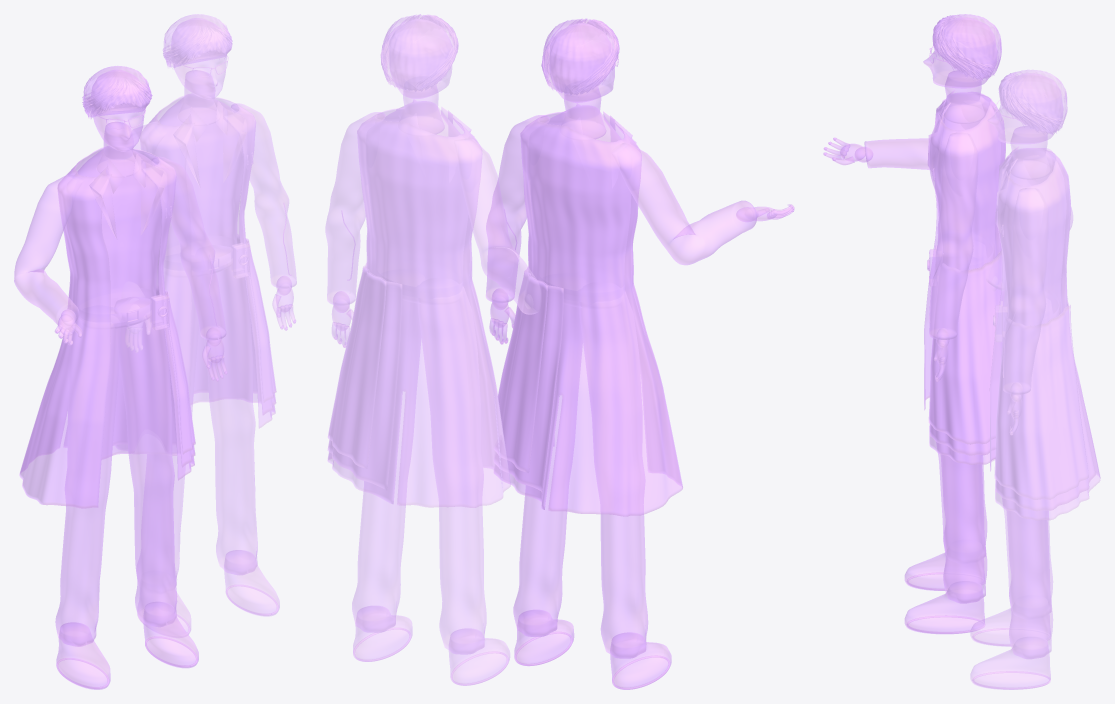
File: replay_afterimages.glb
3 renders of one model, left to right at view 1: azimuth 30°, elevation 25°; view 2: azimuth 150°, elevation 25°; view 3: azimuth 270°, elevation 25°, orthographic. The views are drawn at different scales.
Parts seen in each view (by area): view 1: Afterimage 1, Afterimage 2; view 2: Afterimage 1, Afterimage 2; view 3: Afterimage 2, Afterimage 1.
Boxes of the visible parts, x1,y1,x2,y2 form: Afterimage 1: [14, 66, 227, 689]; Afterimage 2: [116, 14, 296, 637]; Afterimage 1: [485, 18, 794, 689]; Afterimage 2: [325, 14, 540, 685]; Afterimage 2: [970, 70, 1100, 689]; Afterimage 1: [823, 14, 1005, 634].
Bounding box in the file's own units: 1.04 × 1.78 × 0.7596.
